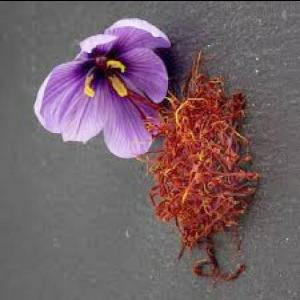Saffron: (35, 15, 174, 155)
